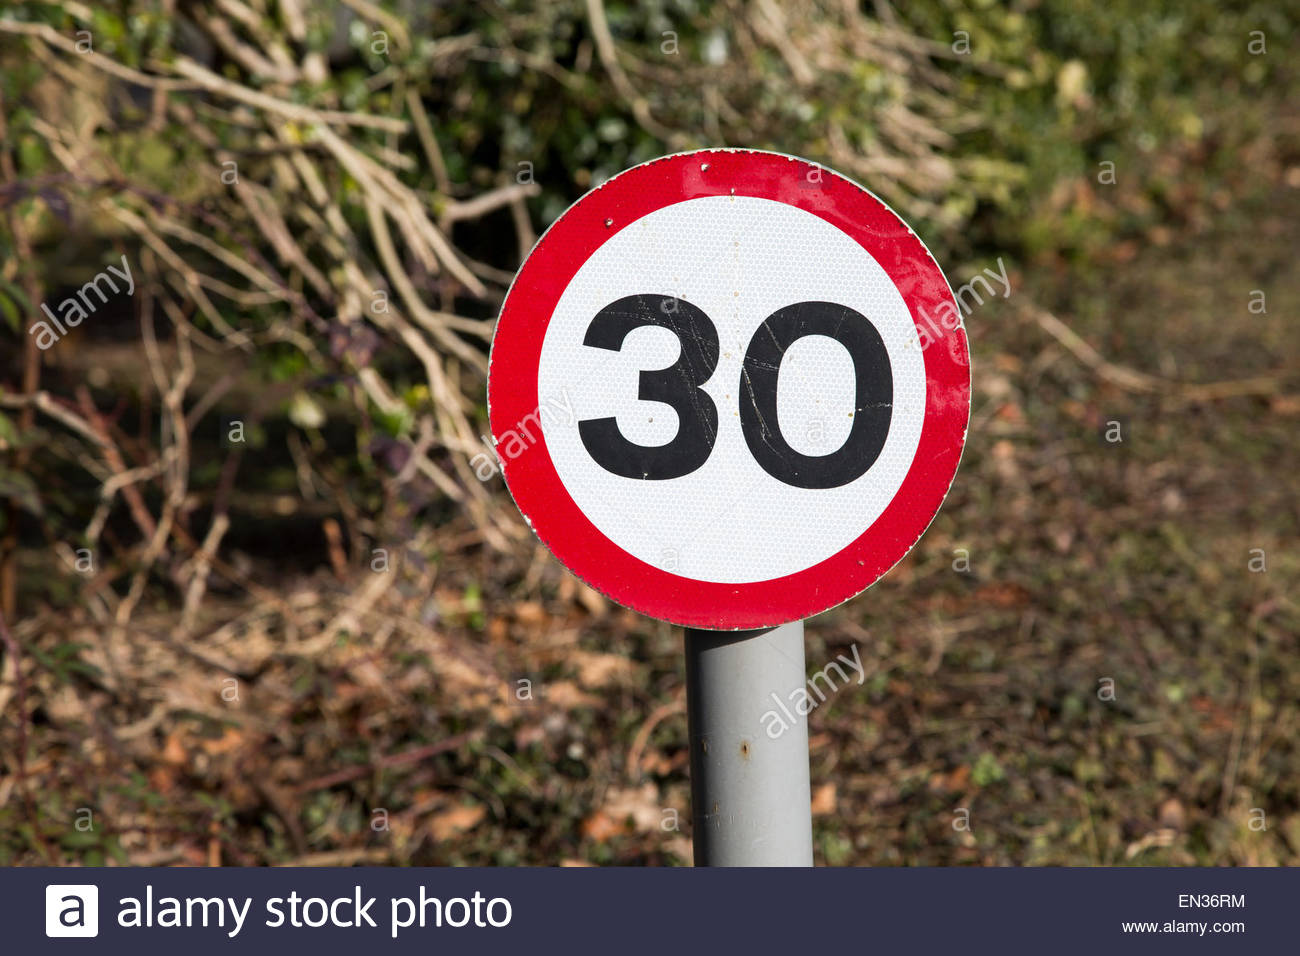Speed_limit_30km: (479, 145, 976, 626)
